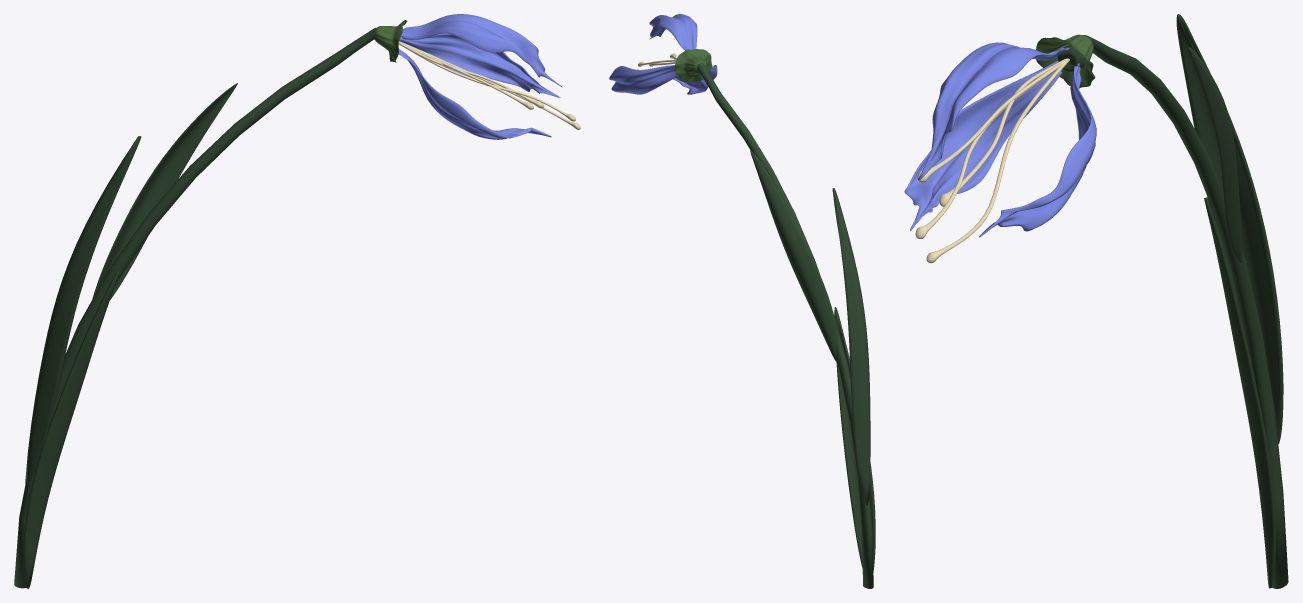
The model's file is SM_Iris_Small_Bend2.fbx.
The picture shows the model from 3 angles, left to right: view 1: azimuth 30°, elevation 25°; view 2: azimuth 150°, elevation 25°; view 3: azimuth 270°, elevation 25°; orthographic projection. The views are drawn at different scales.
Visible parts, largest first — view 1: SM_Flower_Iris_Small_Bend2; view 2: SM_Flower_Iris_Small_Bend2; view 3: SM_Flower_Iris_Small_Bend2.
Boxes of the visible parts, <box> form: SM_Flower_Iris_Small_Bend2: <box>14,14,580,588</box>; SM_Flower_Iris_Small_Bend2: <box>609,14,875,588</box>; SM_Flower_Iris_Small_Bend2: <box>904,14,1288,588</box>.
Size of the model in its own units: 108 by 132 by 60.28.
